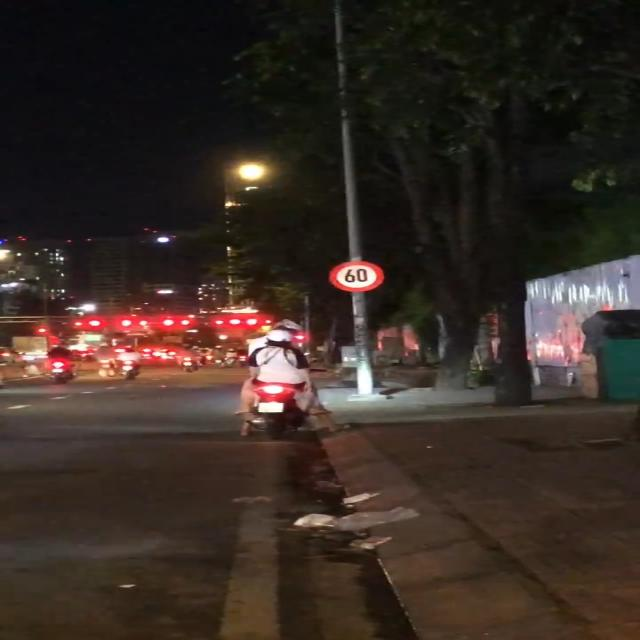Bien bao toc do toi da cho phep: (322, 257, 391, 297)
